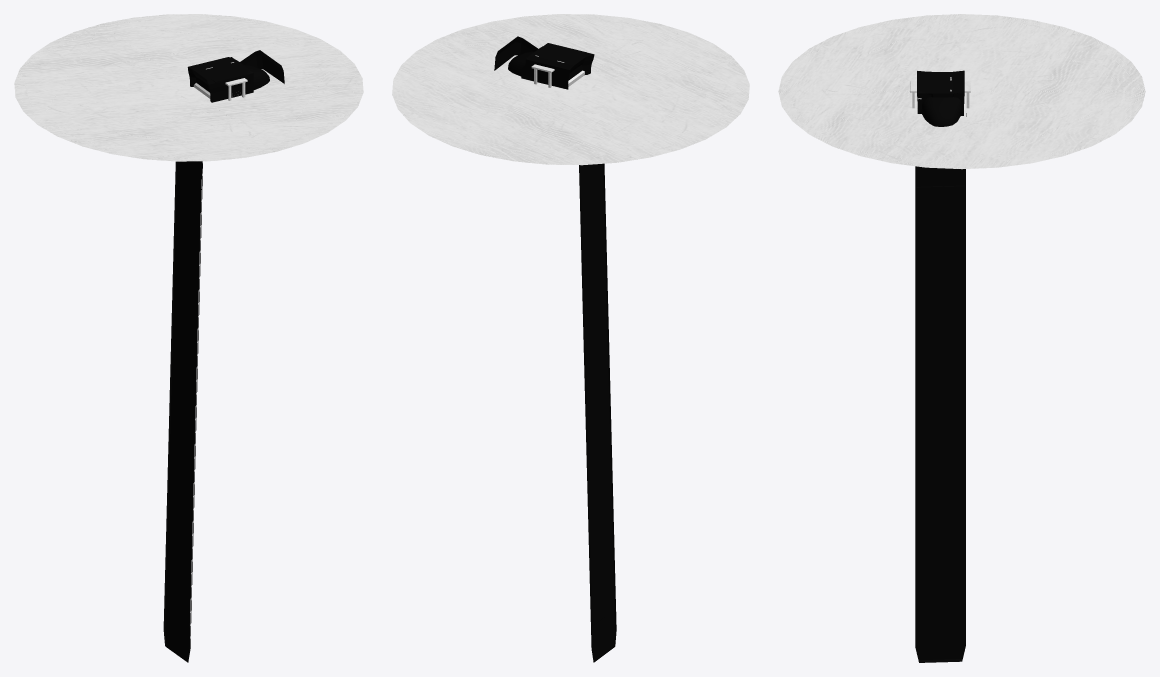
Rendered from baked-setup.glb.
3 renders of one model, left to right at view 1: azimuth 30°, elevation 25°; view 2: azimuth 150°, elevation 25°; view 3: azimuth 270°, elevation 25°, orthographic. The views are drawn at different scales.
Visible parts, largest first — view 1: Circle, Cube.002, Cube.008, Cube.011; view 2: Circle, Cube.002, Cube.008, Cube.011; view 3: Circle, Cube.002, Cube.008, Cube.011.
Part boxes in pixels (x1,y1,x2,y2): Circle: [14, 14, 363, 161]; Cube.002: [163, 50, 284, 662]; Cube.008: [187, 57, 269, 102]; Cube.011: [196, 57, 253, 101]; Circle: [392, 14, 749, 165]; Cube.002: [494, 36, 616, 662]; Cube.008: [508, 46, 594, 89]; Cube.011: [525, 43, 586, 80]; Circle: [778, 14, 1145, 169]; Cube.002: [915, 113, 966, 662]; Cube.008: [917, 70, 964, 126]; Cube.011: [917, 74, 963, 113].
Bounding box in the file's own units: 16 × 29.02 × 16.
Materials: 10 (5 with a texture image).
